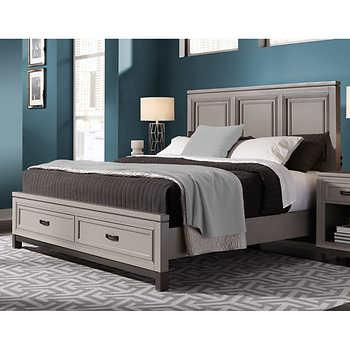bed: (14, 83, 348, 296)
